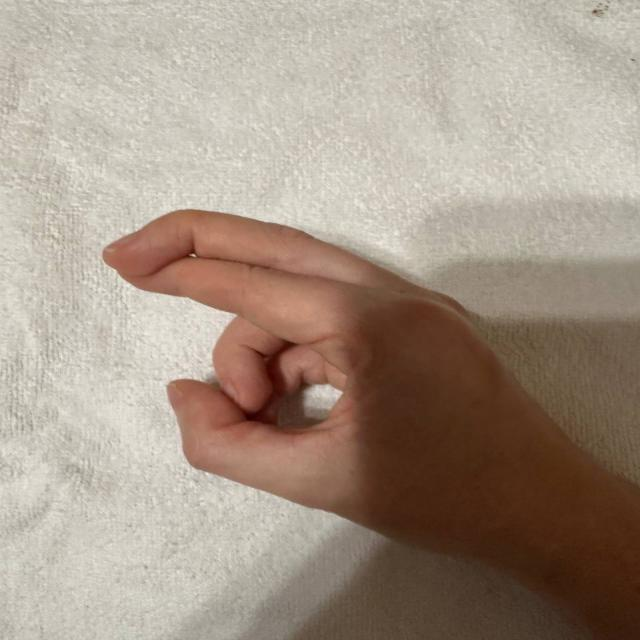ia: (82, 160, 538, 590)
